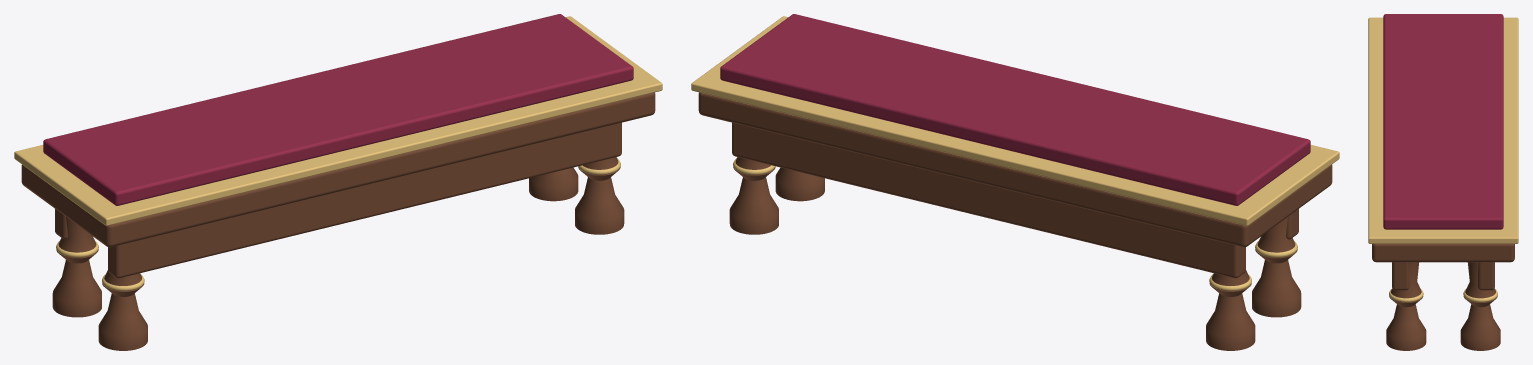
The model's file is royal-court-and-throne-palace-petitioners-bench-f0271338__29386.glb.
3 renders of one model, left to right at view 1: azimuth 30°, elevation 25°; view 2: azimuth 150°, elevation 25°; view 3: azimuth 270°, elevation 25°, orthographic. The views are drawn at different scales.
Parts seen in each view (by area): view 1: petitioners-bench; view 2: petitioners-bench; view 3: petitioners-bench.
Boxes of the visible parts, <box> form: petitioners-bench: <box>14,14,662,350</box>; petitioners-bench: <box>691,14,1339,350</box>; petitioners-bench: <box>1368,14,1518,350</box>.
Bounding box in the file's own units: 1.83 × 0.51 × 0.5249.
